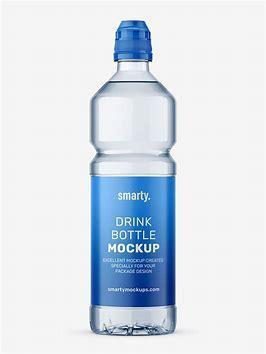bottle: (93, 13, 177, 336)
